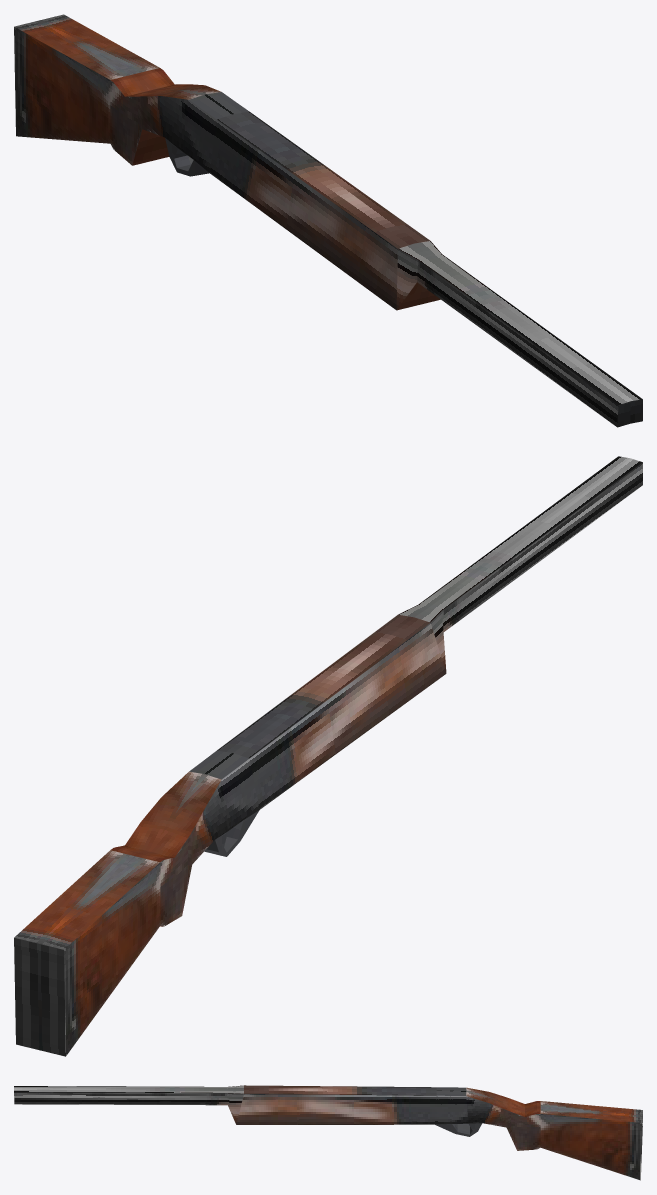
File: shotgun.glb
3 renders of one model, top to bottom at view 1: azimuth 30°, elevation 25°; view 2: azimuth 150°, elevation 25°; view 3: azimuth 270°, elevation 25°, orthographic. The views are drawn at different scales.
Visible parts, largest first — view 1: shotgun; view 2: shotgun; view 3: shotgun.
Boxes of the visible parts, x1=… form: shotgun: x1=14, y1=14, x2=642, y2=427; shotgun: x1=14, y1=456, x2=642, y2=1056; shotgun: x1=14, y1=1085, x2=642, y2=1180.
Bounding box in the file's own units: 0.2266 × 0.6969 × 4.65.
Materials: 1 (1 with a texture image).
